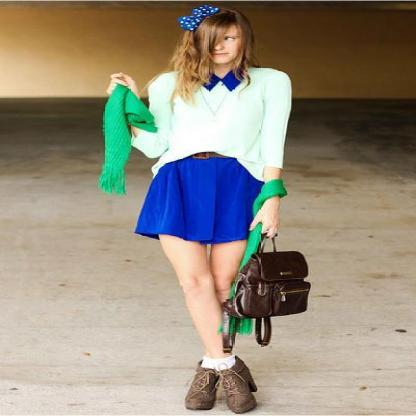bag: (235, 241, 310, 346)
jacket: (131, 68, 290, 183)
shoe: (187, 337, 257, 415)
skirt: (137, 152, 261, 244)
